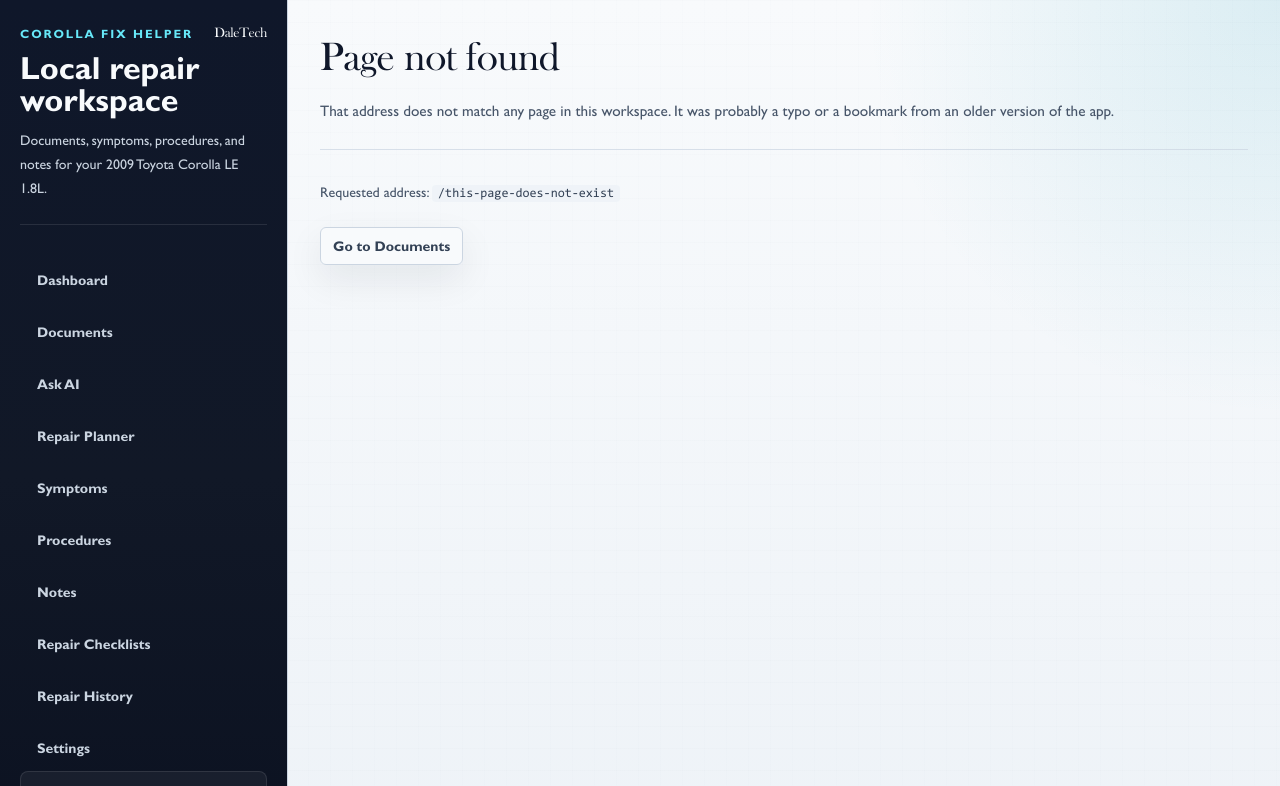
Scenario: the Not Found page links back to the documents page
Click the link "Go to Documents". click: [392, 246]
box: [320,227,463,265]
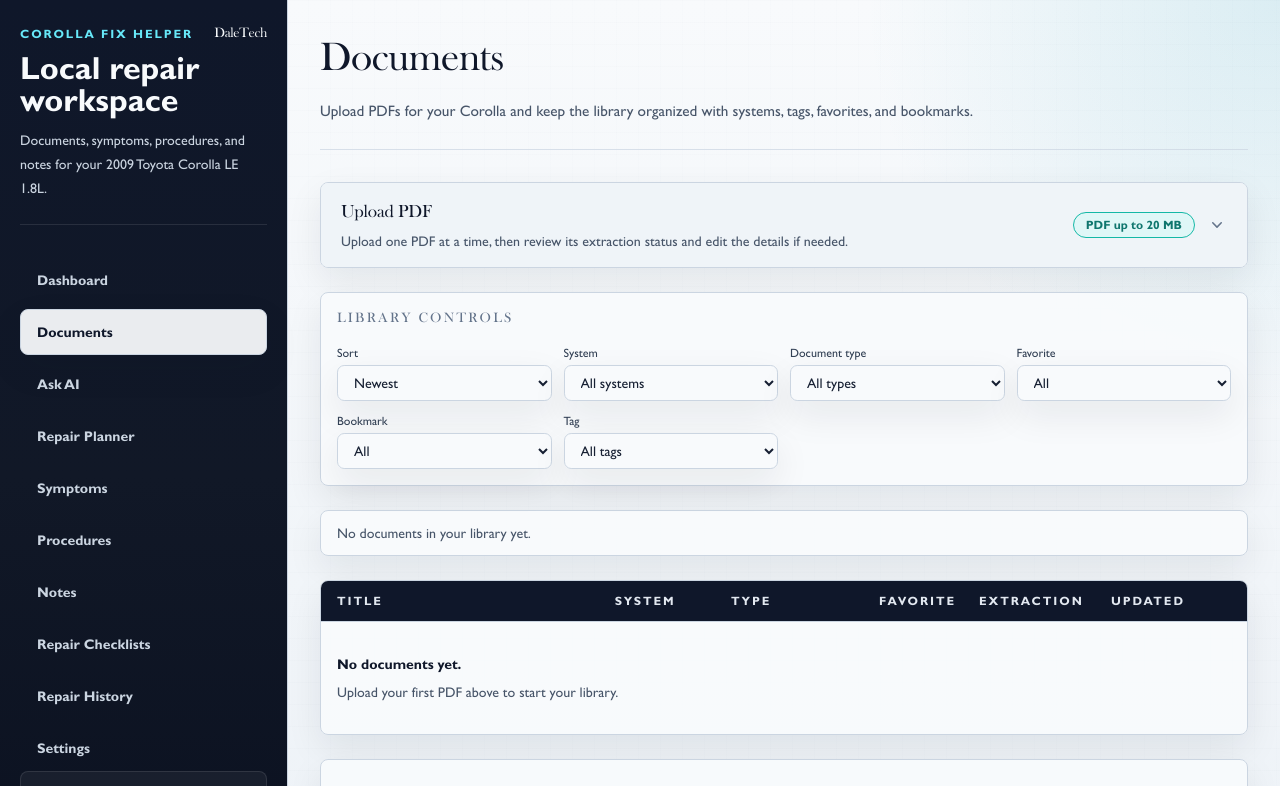
Result: the heading "Page not found" is gone
Result: the heading "Documents" is shown at [320,39,504,80]
